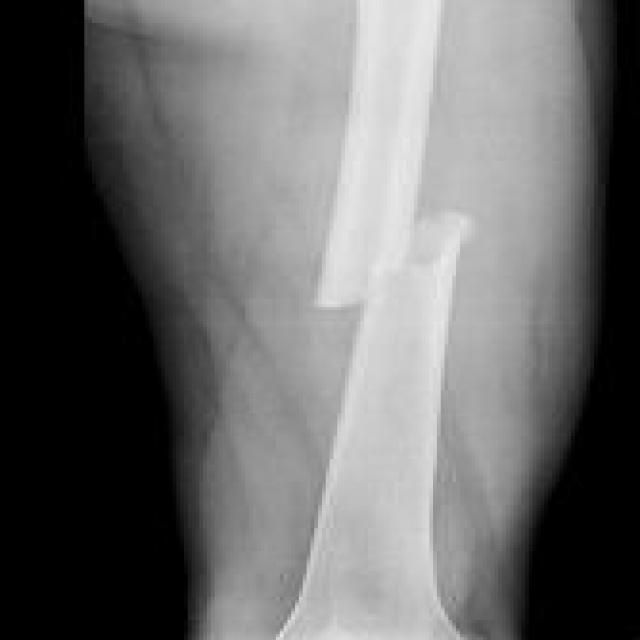Broken: (299, 214, 475, 601), (320, 8, 443, 308)
